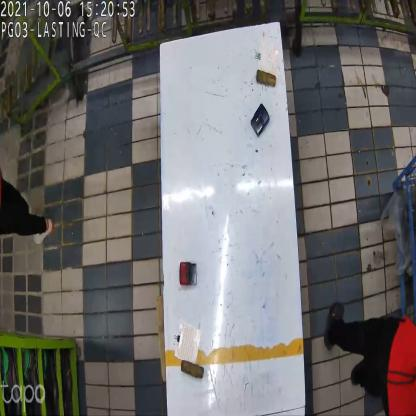stamp: (252, 104, 271, 138), (179, 258, 197, 288)
